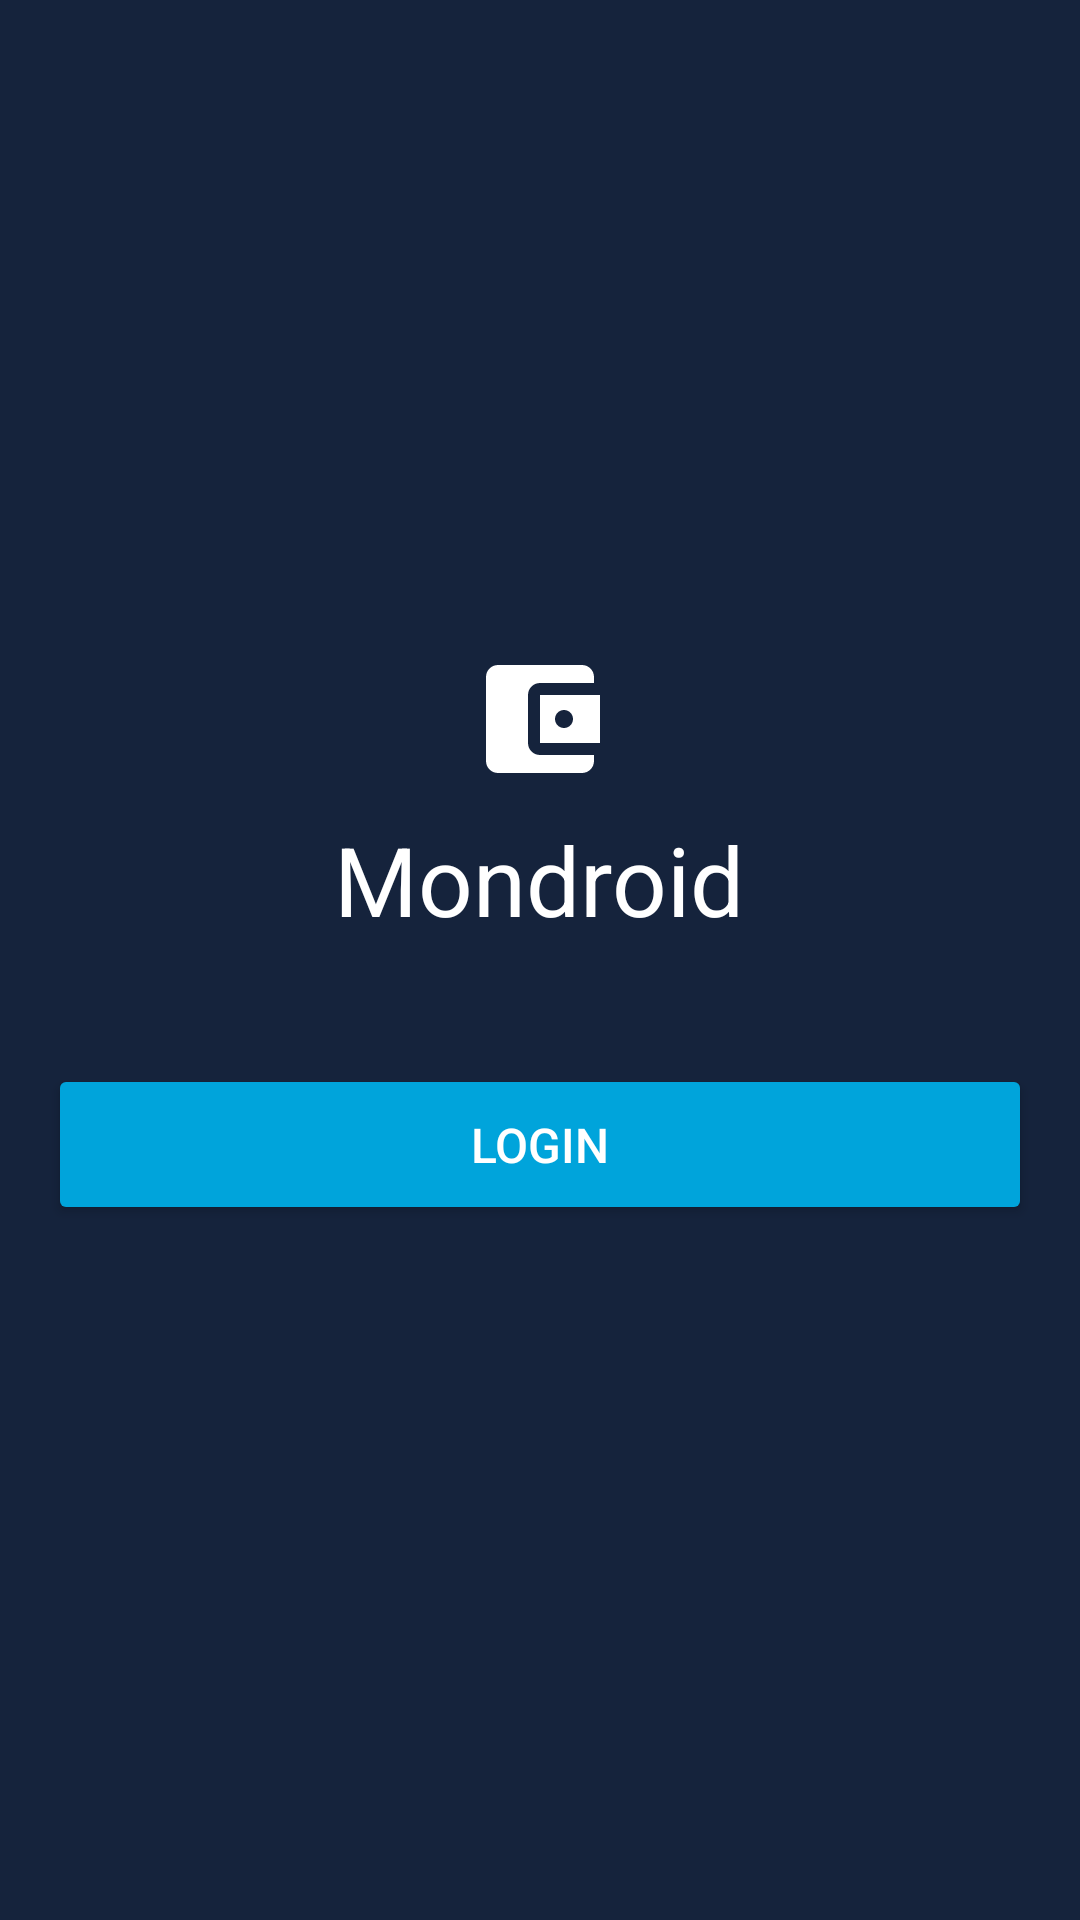

Named icons in this screenshot (1080 × 1920) and their bounding boxes, [x1,y1,x2,y2]:
account balance wallet: [486,665,600,773]
